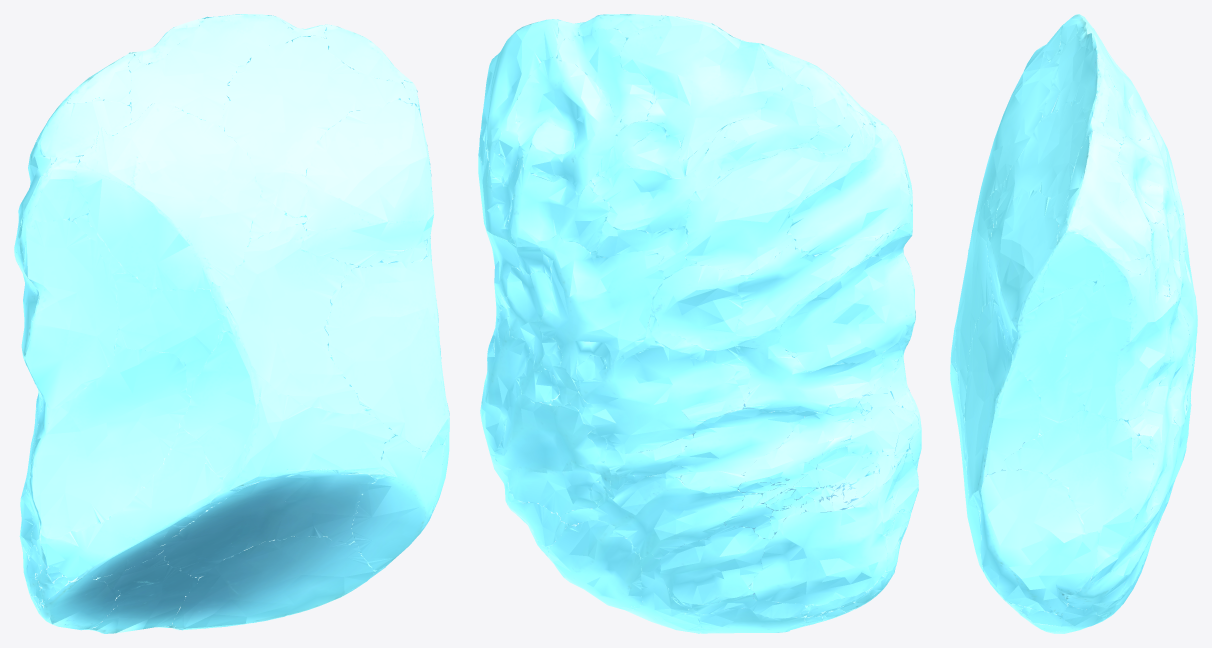
File: unnumbered-fragment-slim.glb
3 renders of one model, left to right at view 1: azimuth 30°, elevation 25°; view 2: azimuth 150°, elevation 25°; view 3: azimuth 270°, elevation 25°, orthographic. The views are drawn at different scales.
Parts seen in each view (by area): view 1: node_0; view 2: node_0; view 3: node_0.
Boxes of the visible parts, x1=… form: node_0: x1=14, y1=14, x2=449, y2=633; node_0: x1=478, y1=14, x2=921, y2=633; node_0: x1=950, y1=14, x2=1197, y2=633.
Bounding box in the file's own units: 0.8186 × 1.17 × 0.4742.
Materials: 1 (1 with a texture image).
